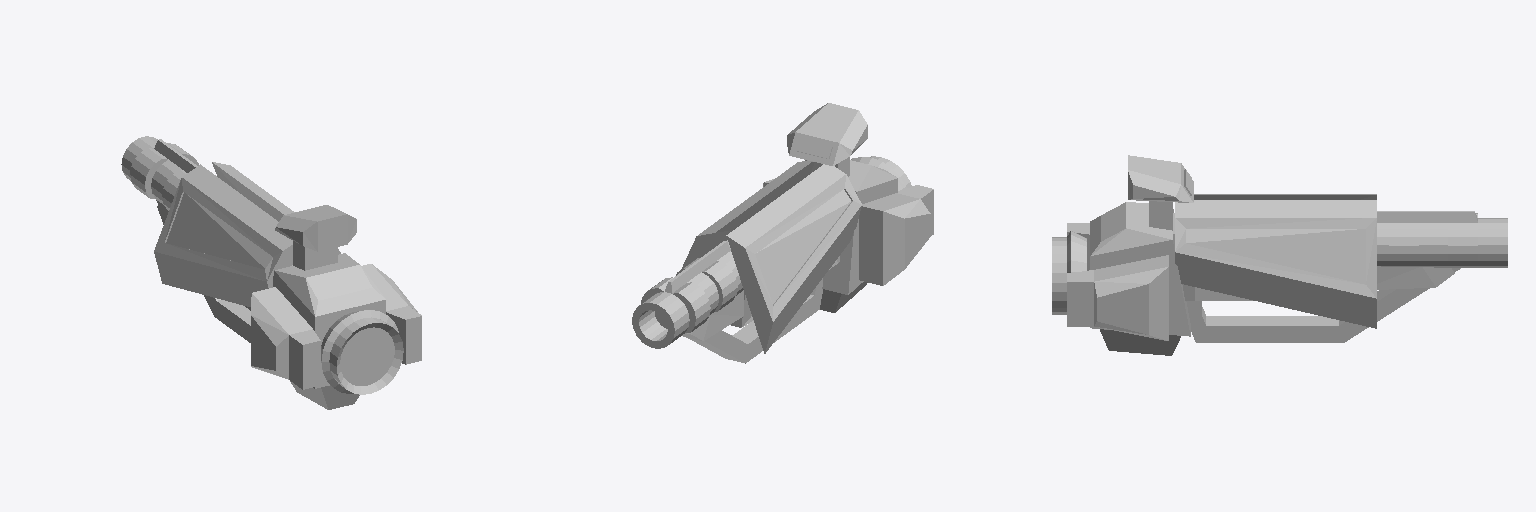
File: midstone_ship.obj
3 views of the same model, side by side, from view 1: azimuth 30°, elevation 25°; view 2: azimuth 150°, elevation 25°; view 3: azimuth 270°, elevation 25° (orthographic).
Visible parts, largest first — view 1: Ship; view 2: Ship; view 3: Ship.
Part boxes in pixels (bbox=[...]): Ship: bbox=[121, 136, 421, 409]; Ship: bbox=[632, 103, 933, 363]; Ship: bbox=[1052, 155, 1507, 355].
Bounding box in the file's own units: 0.434 × 0.5468 × 1.2.